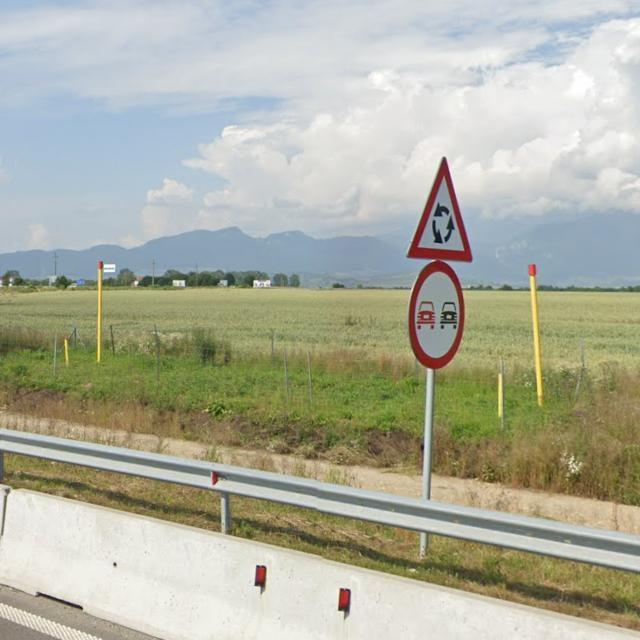forb_overtake: (408, 260, 467, 367)
